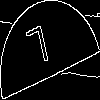L: (25, 24, 52, 76)
